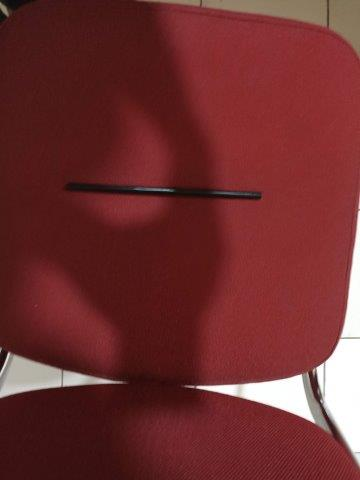sedotan: (66, 183, 262, 200)
